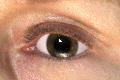eye: (47, 33, 77, 58)
